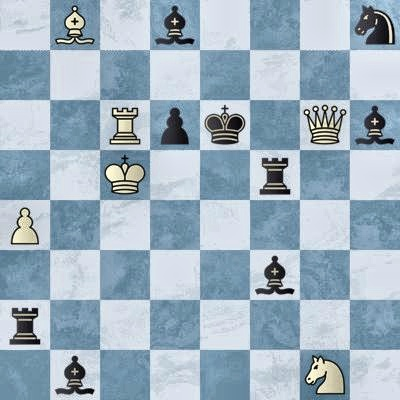black-bishop: (150, 0, 200, 50), (350, 100, 400, 150), (250, 250, 300, 300), (50, 350, 100, 400)
black-king: (200, 100, 250, 150)
black-knight: (350, 0, 400, 50)
black-pawn: (150, 100, 200, 150)
black-rook: (250, 150, 300, 200), (0, 300, 50, 350)
white-bishop: (50, 0, 100, 50)
white-king: (100, 150, 150, 200)
white-knight: (300, 350, 350, 400)
white-pawn: (0, 200, 50, 250)
white-queen: (300, 100, 350, 150)
white-rook: (100, 100, 150, 150)
